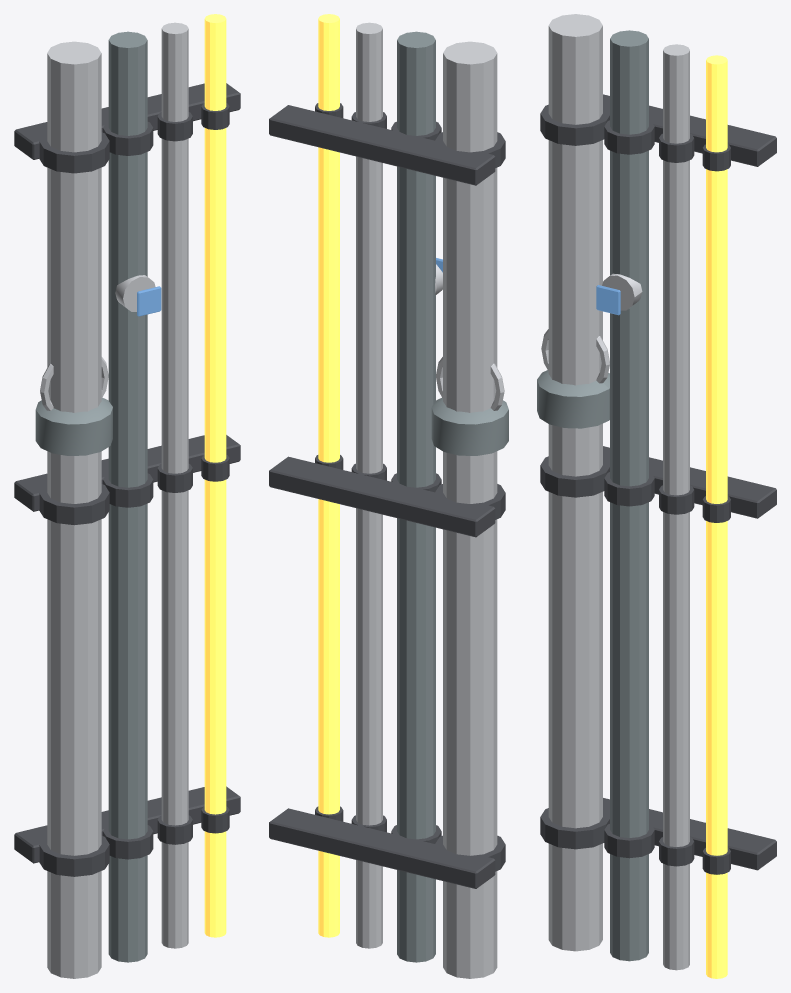
The model's file is cyberpunk-apartment-and-neon-block-pipe-riser-cluster-a0784d4f__37801.glb.
3 renders of one model, left to right at view 1: azimuth 30°, elevation 25°; view 2: azimuth 150°, elevation 25°; view 3: azimuth 330°, elevation 25°, orthographic.
Parts seen in each view (by area): view 1: pipe-riser-cluster; view 2: pipe-riser-cluster; view 3: pipe-riser-cluster.
Part boxes in pixels (x1,y1,x2,y2): pipe-riser-cluster: (14,14,240,978); pipe-riser-cluster: (269,14,508,978); pipe-riser-cluster: (537,14,776,978).
Size of the model in its own units: 0.622 by 2.6 by 0.253.
